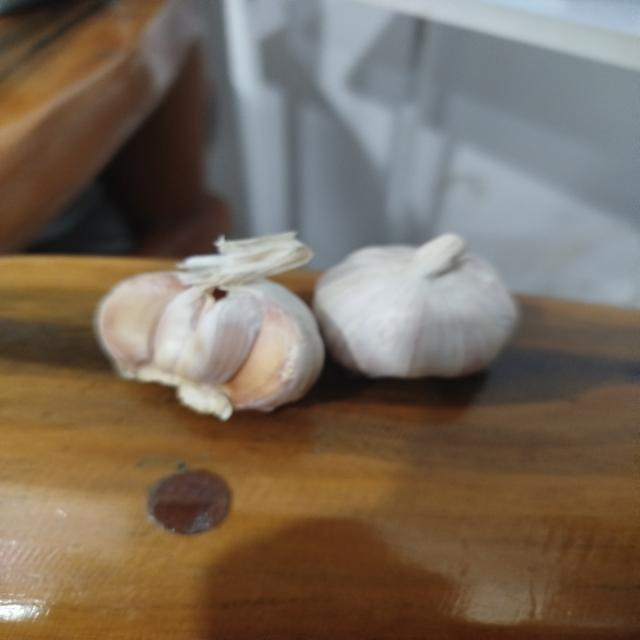garlic: (93, 231, 326, 421), (312, 232, 518, 380)
